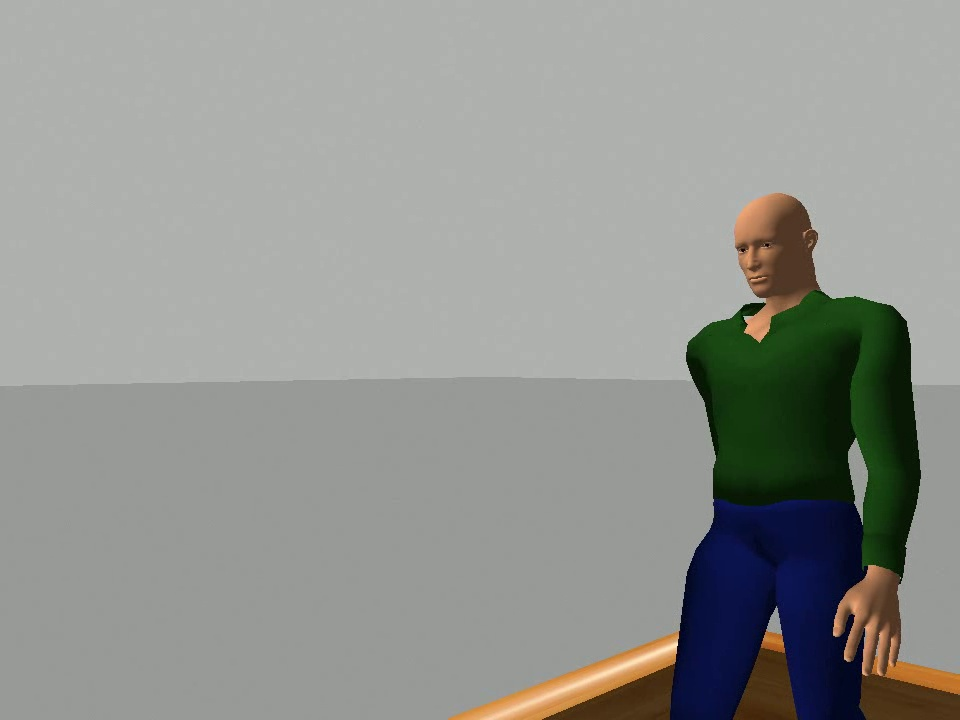person: (666, 189, 927, 720)
